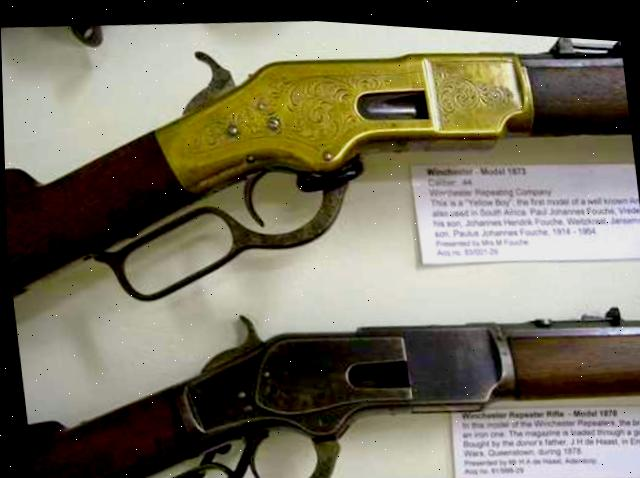rifle: (0, 0, 610, 326), (44, 249, 640, 478)
